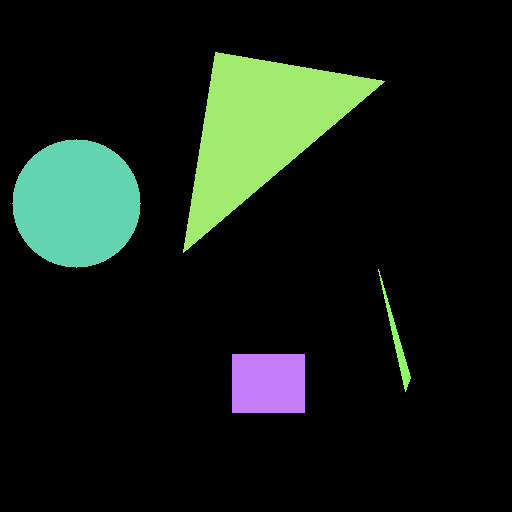circle: (12, 139, 140, 267)
rectangle: (232, 354, 304, 412)
triangle: (183, 52, 384, 252), (378, 269, 410, 391)
